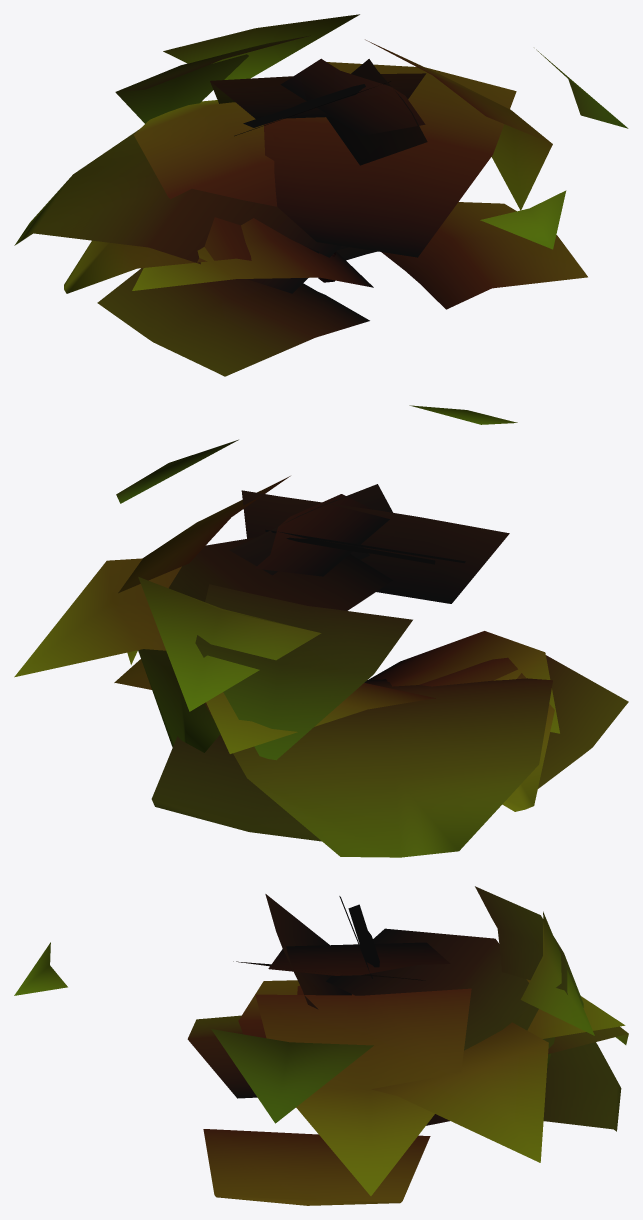
Rendered from bush_b_mid.glb.
3 renders of one model, top to bottom at view 1: azimuth 30°, elevation 25°; view 2: azimuth 150°, elevation 25°; view 3: azimuth 270°, elevation 25°, orthographic. The views are drawn at different scales.
Visible parts, largest first — view 1: bush_b_mid; view 2: bush_b_mid; view 3: bush_b_mid.
Boxes of the visible parts, x1=… form: bush_b_mid: x1=14, y1=14, x2=628, y2=376; bush_b_mid: x1=14, y1=405, x2=628, y2=857; bush_b_mid: x1=14, y1=886, x2=628, y2=1205.
Size of the model in its own units: 1.44 by 0.4635 by 1.58.
Materials: 1 (1 with a texture image).
